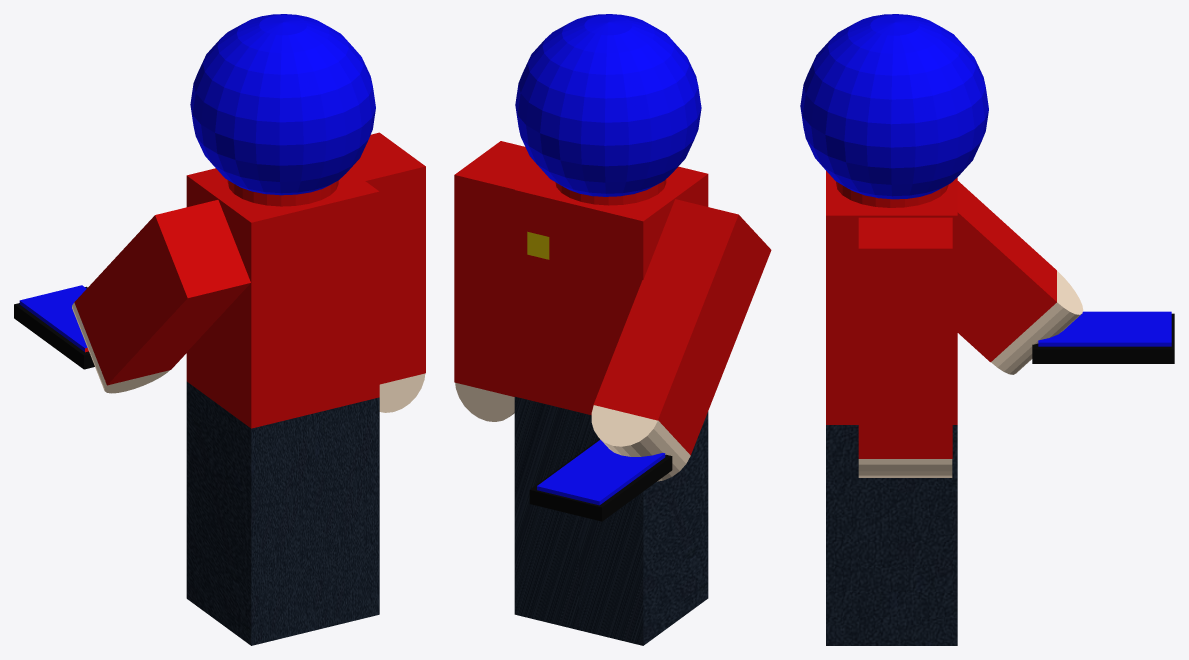
File: BLUE .3ds.glb
3 views of the same model, side by side, from view 1: azimuth 30°, elevation 25°; view 2: azimuth 150°, elevation 25°; view 3: azimuth 270°, elevation 25° (orthographic).
Visible parts, largest first — view 1: Model, leg2, Group2, leg1, Group1, Group3, hadn_2_1, hadn_2_2; view 2: Model, Group2, leg2, Group1, leg1, Group3, hadn_2_2, hadn_2_1; view 3: Model, leg1, Group1, Group2, Group3, hadn_2_2, hadn_2_1.
Boxes of the visible parts, left/top/right/bottom form: Model: left=186, top=14, right=379, bottom=428; leg2: left=186, top=381, right=315, bottom=645; Group2: left=74, top=200, right=250, bottom=385; leg1: left=315, top=397, right=379, bottom=630; Group1: left=350, top=132, right=425, bottom=384; Group3: left=14, top=285, right=94, bottom=369; hadn_2_1: left=379, top=373, right=425, bottom=412; hadn_2_2: left=72, top=302, right=169, bottom=393; Model: left=514, top=14, right=708, bottom=415; Group2: left=593, top=199, right=771, bottom=455; leg2: left=579, top=411, right=708, bottom=645; Group1: left=454, top=141, right=541, bottom=396; leg1: left=514, top=396, right=578, bottom=630; Group3: left=529, top=438, right=672, bottom=521; hadn_2_2: left=591, top=405, right=690, bottom=481; hadn_2_1: left=455, top=382, right=514, bottom=421; Model: left=800, top=14, right=988, bottom=424; leg1: left=826, top=425, right=957, bottom=645; Group1: left=858, top=217, right=952, bottom=458; Group2: left=957, top=181, right=1056, bottom=362; Group3: left=1032, top=311, right=1174, bottom=363; hadn_2_2: left=991, top=271, right=1083, bottom=374; hadn_2_1: left=858, top=459, right=952, bottom=477.
Size of the model in its own units: 203 by 441 by 253.
15 materials, 2 textured.
